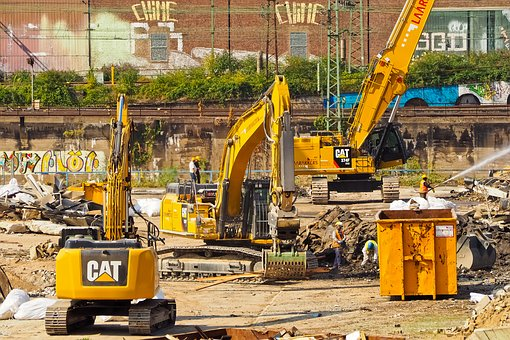excavator: (42, 91, 179, 337), (158, 72, 315, 280), (293, 2, 437, 198)
